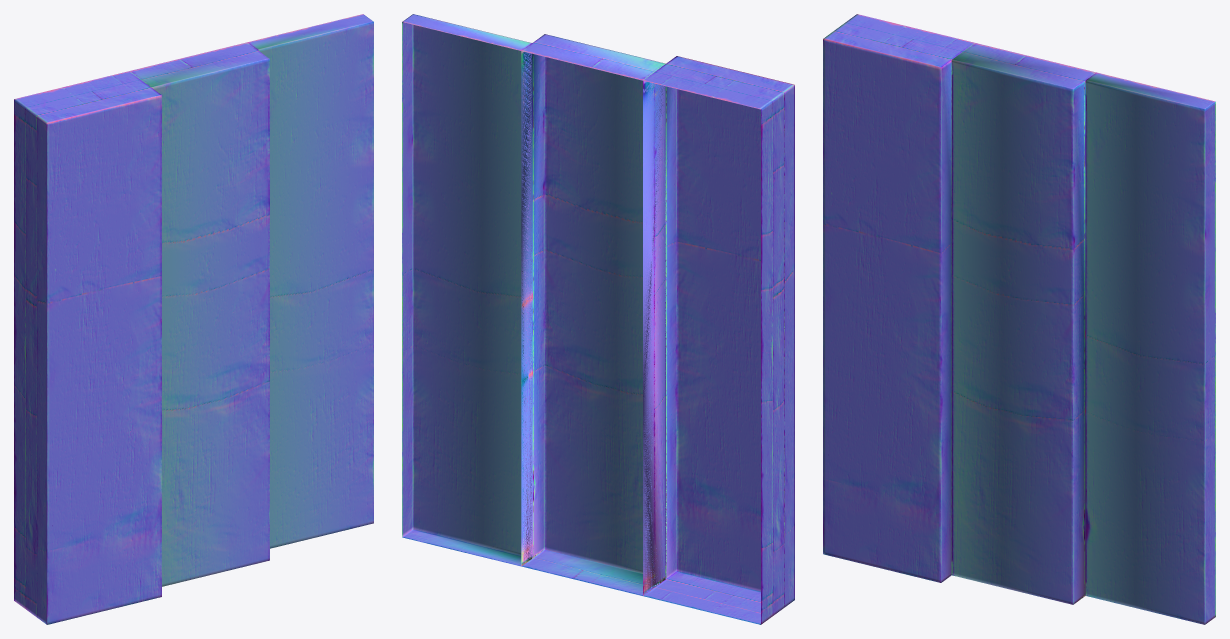
Rendered from stairs_lo17_2.fbx.
3 views of the same model, side by side, from view 1: azimuth 30°, elevation 25°; view 2: azimuth 150°, elevation 25°; view 3: azimuth 330°, elevation 25° (orthographic). The views are drawn at different scales.
Visible parts, largest first — view 1: stairs_lo17_2; view 2: stairs_lo17_2; view 3: stairs_lo17_2.
Part boxes in pixels (box(x1,y1,x2,y2)): stairs_lo17_2: box(14, 14, 373, 624); stairs_lo17_2: box(402, 14, 794, 624); stairs_lo17_2: box(823, 14, 1215, 624).
Bounding box in the file's own units: 179 × 245 × 29.31.
